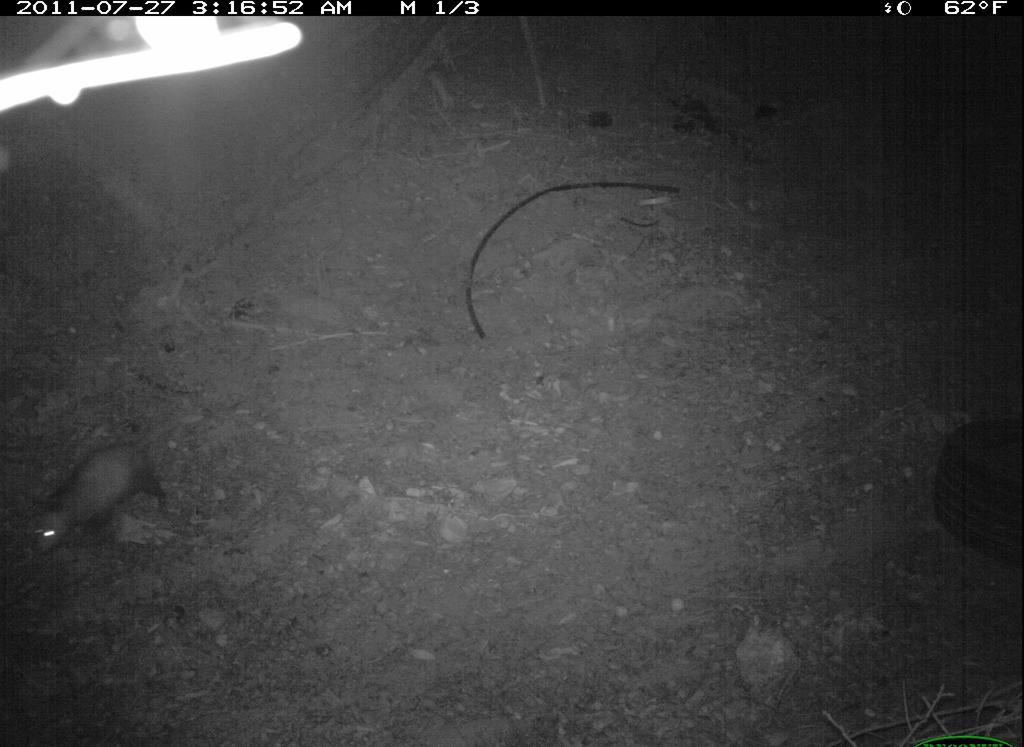opossum: (24, 425, 179, 574)
